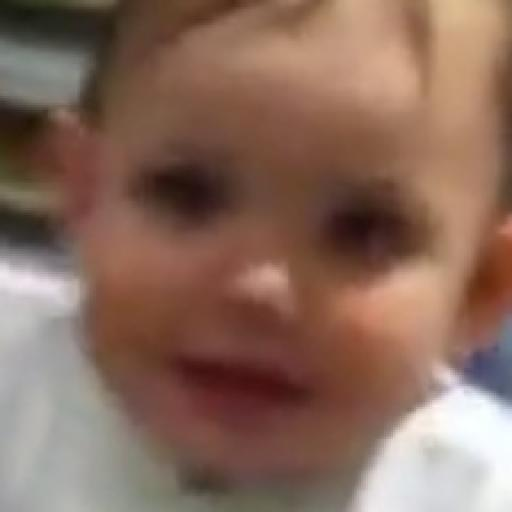Autism: (84, 14, 512, 478)
